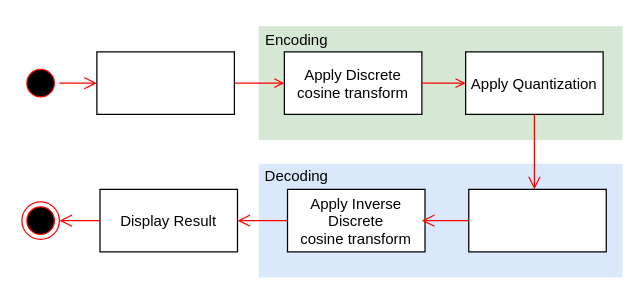
Some shapes in this 644 by 299 pixel diagram are drawn without their labels. Here are the shapes that lost their labels. From the top down, the centre of each, then its label:
At point (165, 82): "Load Image".
At point (537, 220): "Apply De-Quantization".
